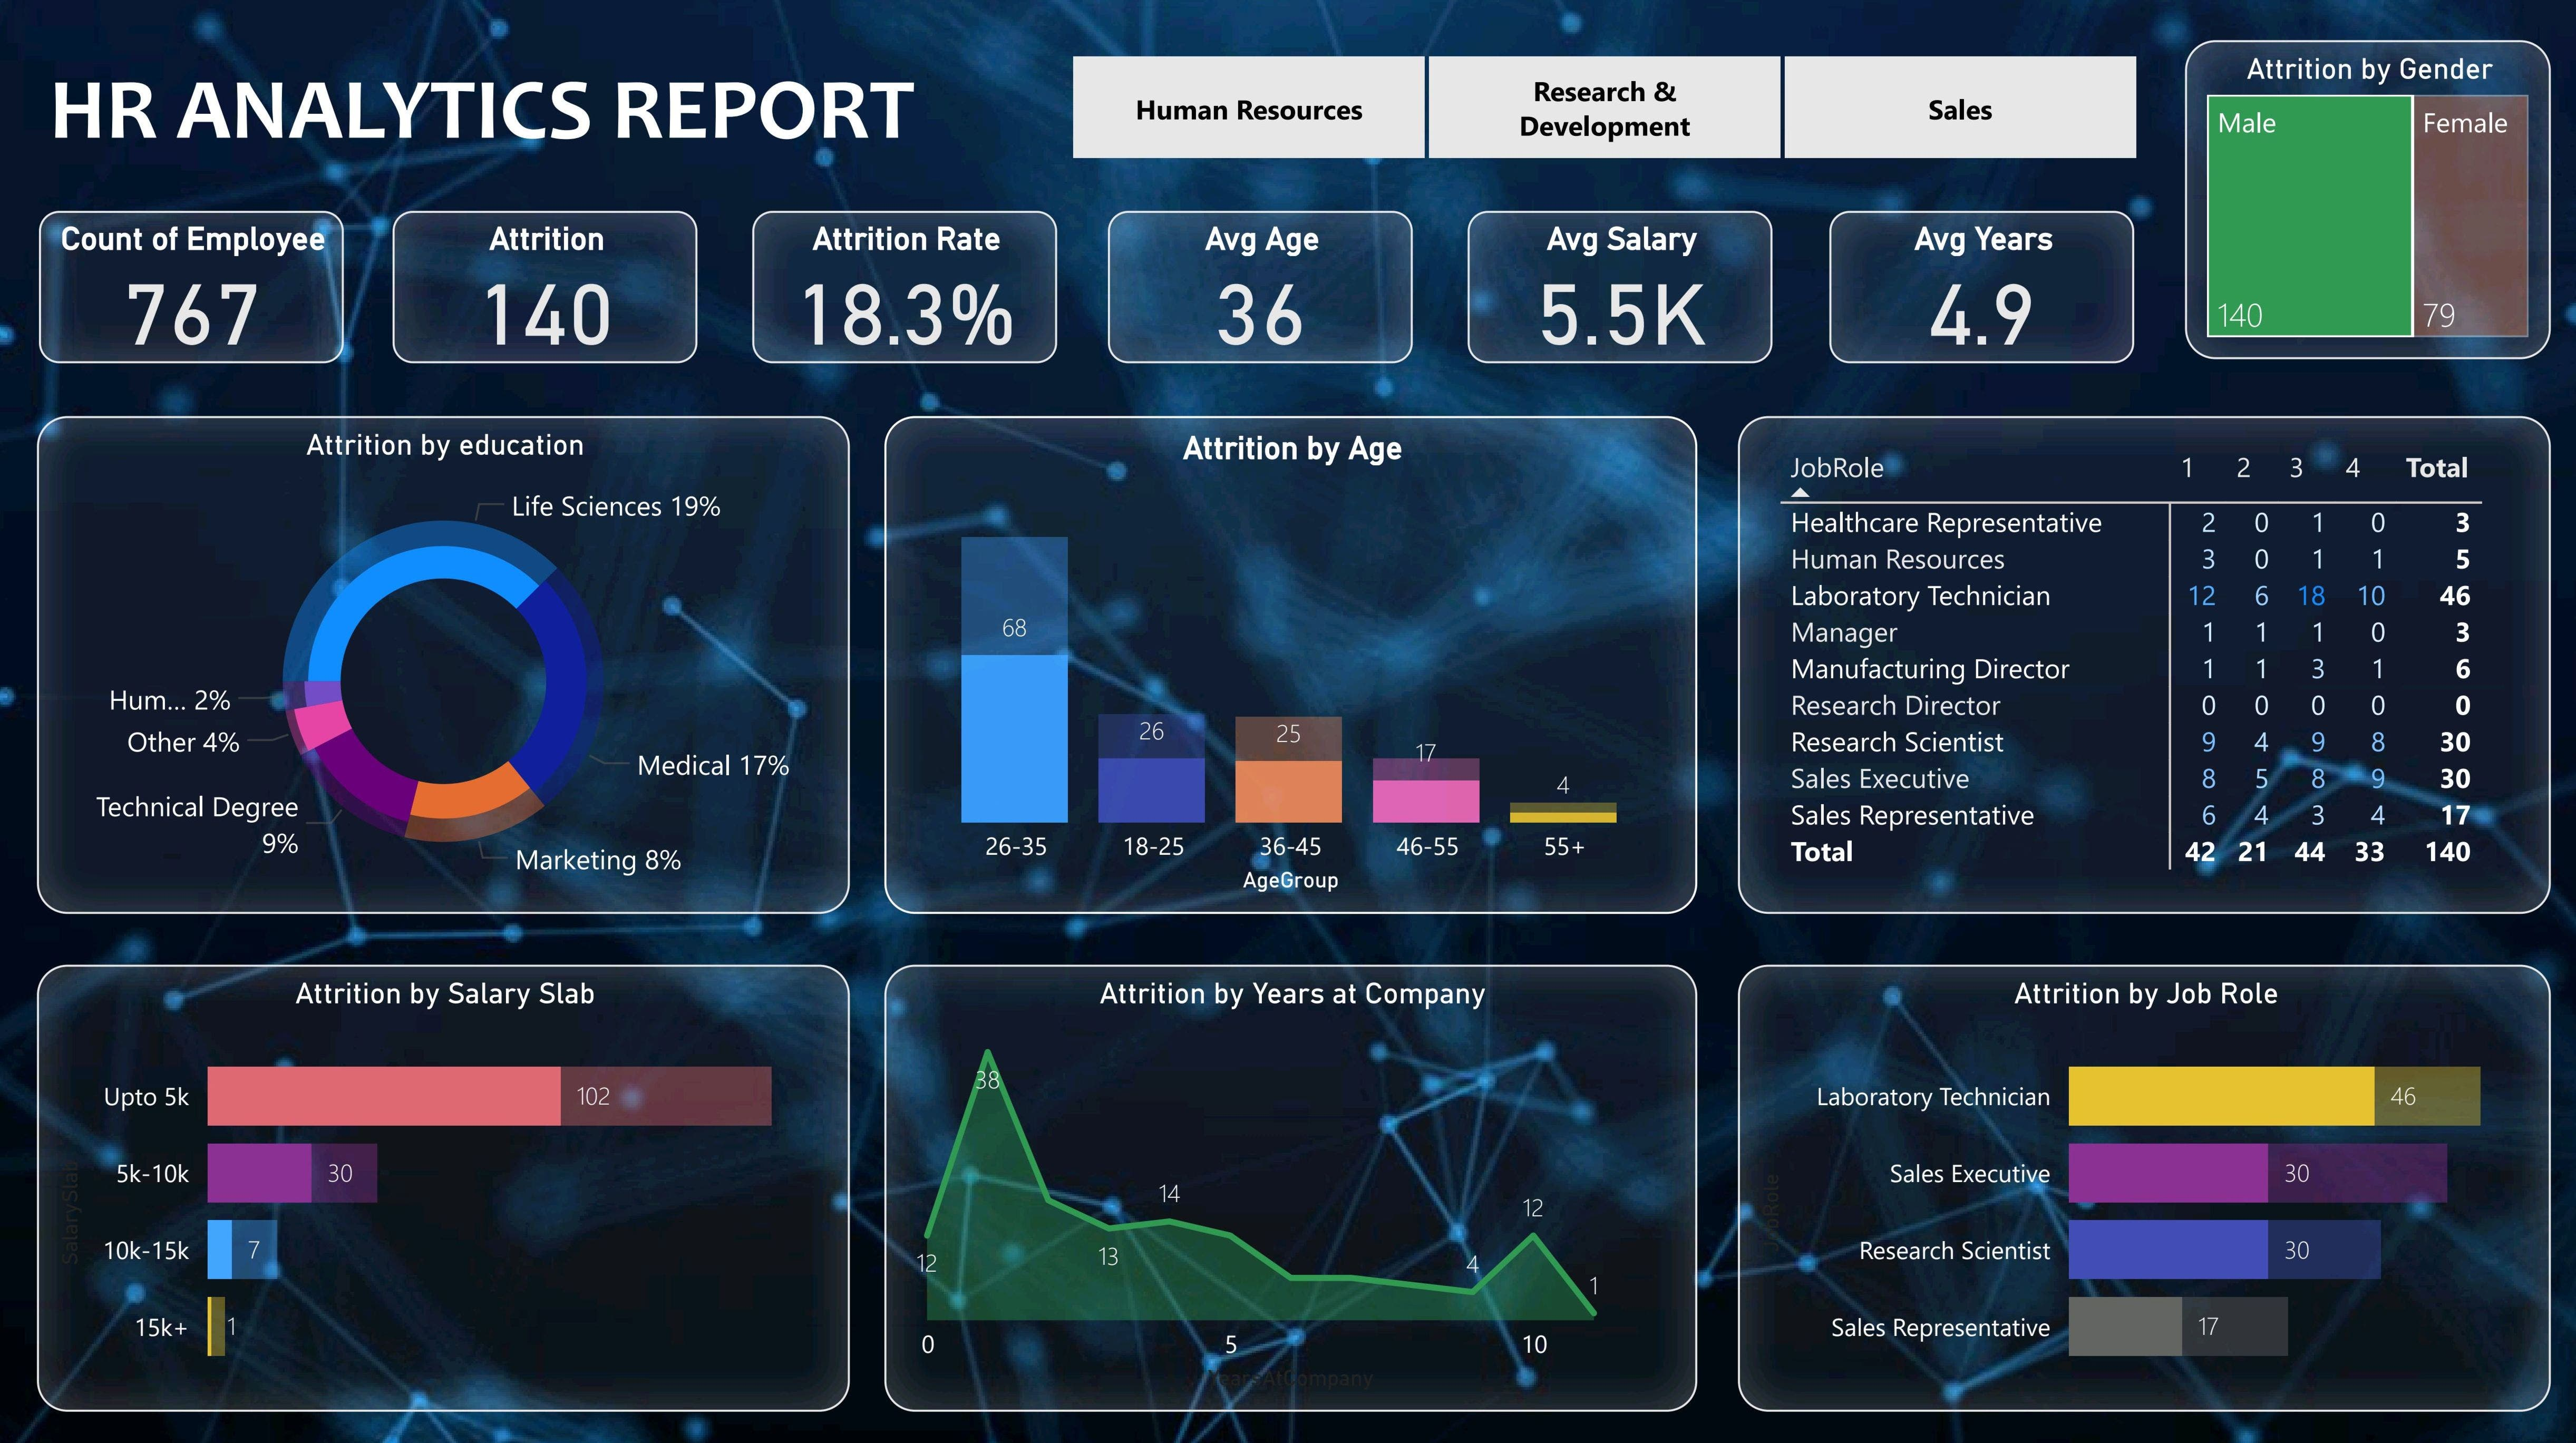

Layout of this report page (visuals, bound fields, positions):
{"tool":"powerbi","page":{"name":"Page 1","canvas":[1280,720],"ordinal":0},"visuals":[{"type":"card","title":"Count of Employee","fields":{"Values":["CountNonNull(HR_Analytics.EmpID)"]},"box":[23.9,106,150,74.8],"z":0},{"type":"card","title":"Attrition","fields":{"Values":["Sum(HR_Analytics.AttritionCount)"]},"box":[198,106,150,74.8],"z":1000},{"type":"card","title":"Attrition Rate","fields":{"Values":["HR_Analytics.Attrition rate"]},"box":[375,106,150,74.8],"z":2000},{"type":"card","title":"Avg Age","fields":{"Values":["Avg(HR_Analytics.Age)"]},"box":[550,106,150,74.8],"z":3000},{"type":"card","title":"Avg Salary","fields":{"Values":["Avg(HR_Analytics.MonthlyIncome)"]},"box":[727,106,150,74.8],"z":4000},{"type":"card","title":"Avg Years","fields":{"Values":["Avg(HR_Analytics.YearsAtCompany)"]},"box":[905,106,150,74.8],"z":5000},{"type":"donutChart","title":"Attrition by education","fields":{"Category":["HR_Analytics.EducationField"],"Y":["Sum(HR_Analytics.AttritionCount)"]},"box":[23.3,207,400,245],"z":6000},{"type":"columnChart","title":"Attrition by Age","fields":{"Category":["HR_Analytics.AgeGroup"],"Y":["Sum(HR_Analytics.AttritionCount)"]},"box":[440,207,400,245],"z":7000},{"type":"pivotTable","fields":{"Rows":["HR_Analytics.JobRole"],"Columns":["HR_Analytics.JobSatisfaction"],"Values":["Sum(HR_Analytics.AttritionCount)"]},"box":[860,206.7,400,245],"z":8000},{"type":"barChart","title":"Attrition by Salary Slab","fields":{"Category":["HR_Analytics.SalarySlab"],"Y":["Sum(HR_Analytics.AttritionCount)"]},"box":[23.3,476.7,400,220],"z":9000},{"type":"barChart","title":"Attrition by Job Role","fields":{"Category":["HR_Analytics.JobRole","HR_Analytics.SalarySlab"],"Y":["Sum(HR_Analytics.AttritionCount)"]},"box":[860,476.7,400,220],"z":10000},{"type":"areaChart","title":"Attrition by Years at Company","fields":{"Category":["HR_Analytics.YearsAtCompany"],"Y":["Sum(HR_Analytics.AttritionCount)"]},"box":[440,476.7,400,220],"z":11000},{"type":"treemap","title":"Attrition by Gender","fields":{"Group":["HR_Analytics.Gender"],"Values":["Sum(HR_Analytics.AttritionCount)"]},"box":[1080,22,179.7,157.5],"z":12000},{"type":"slicer","fields":{"Values":["HR_Analytics.Department"]},"box":[506.7,23.3,573.3,63.3],"z":13000},{"type":"textbox","box":[23.9,23.9,459.7,63.6],"z":14000}]}

Visuals, with their boxes in screenshot pixels (x1, y1, x2, y2), scaled from the page's 1280x720 canvas onto the 2576x1443 screenshot:
"Count of Employee" card: 48,212,350,363
"Attrition" card: 398,212,701,363
"Attrition Rate" card: 755,212,1056,363
"Avg Age" card: 1107,212,1409,363
"Avg Salary" card: 1463,212,1765,363
"Avg Years" card: 1821,212,2123,363
"Attrition by education" donutChart: 47,415,852,906
"Attrition by Age" columnChart: 886,415,1690,906
pivotTable - HR_Analytics.JobRole x HR_Analytics.JobSatisfaction: 1731,414,2536,905
"Attrition by Salary Slab" barChart: 47,955,852,1396
"Attrition by Job Role" barChart: 1731,955,2536,1396
"Attrition by Years at Company" areaChart: 886,955,1690,1396
"Attrition by Gender" treemap: 2173,44,2535,360
slicer - HR_Analytics.Department: 1020,47,2173,173
textbox: 48,48,973,175
